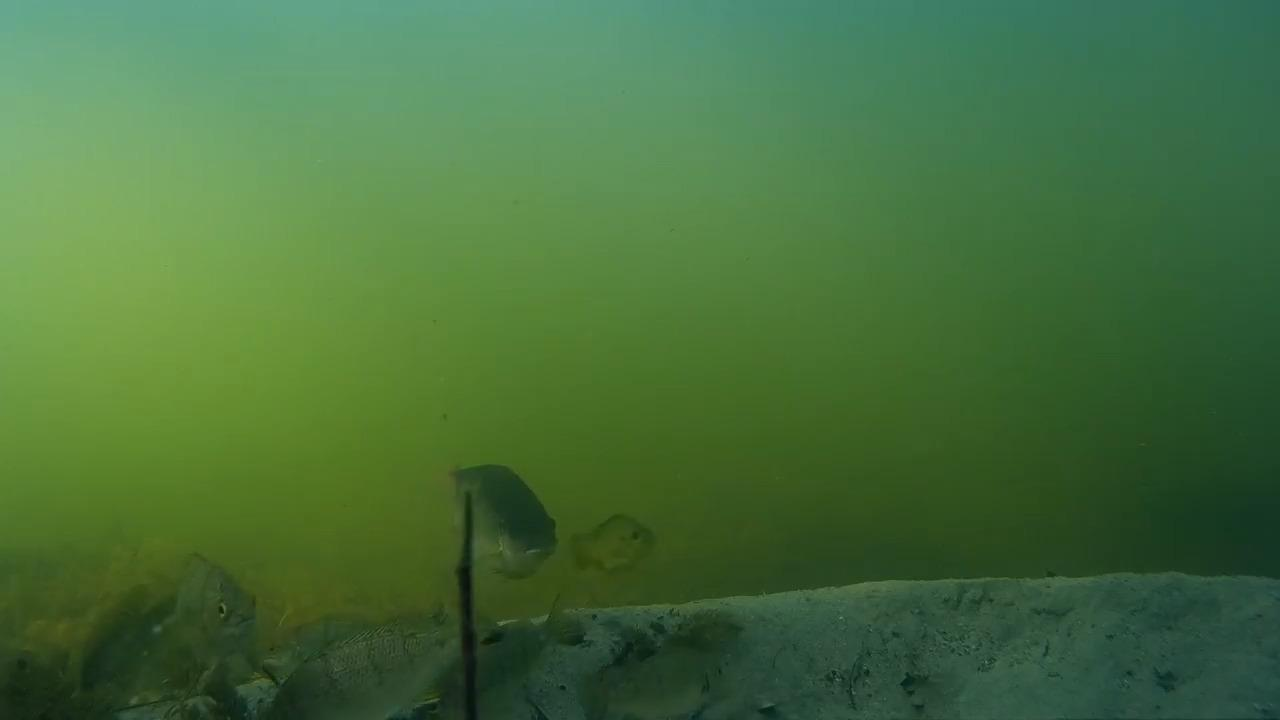Tilapia: (419, 430, 550, 584), (243, 618, 446, 716), (435, 606, 574, 716), (596, 624, 739, 718), (177, 542, 262, 658), (556, 508, 671, 586)
